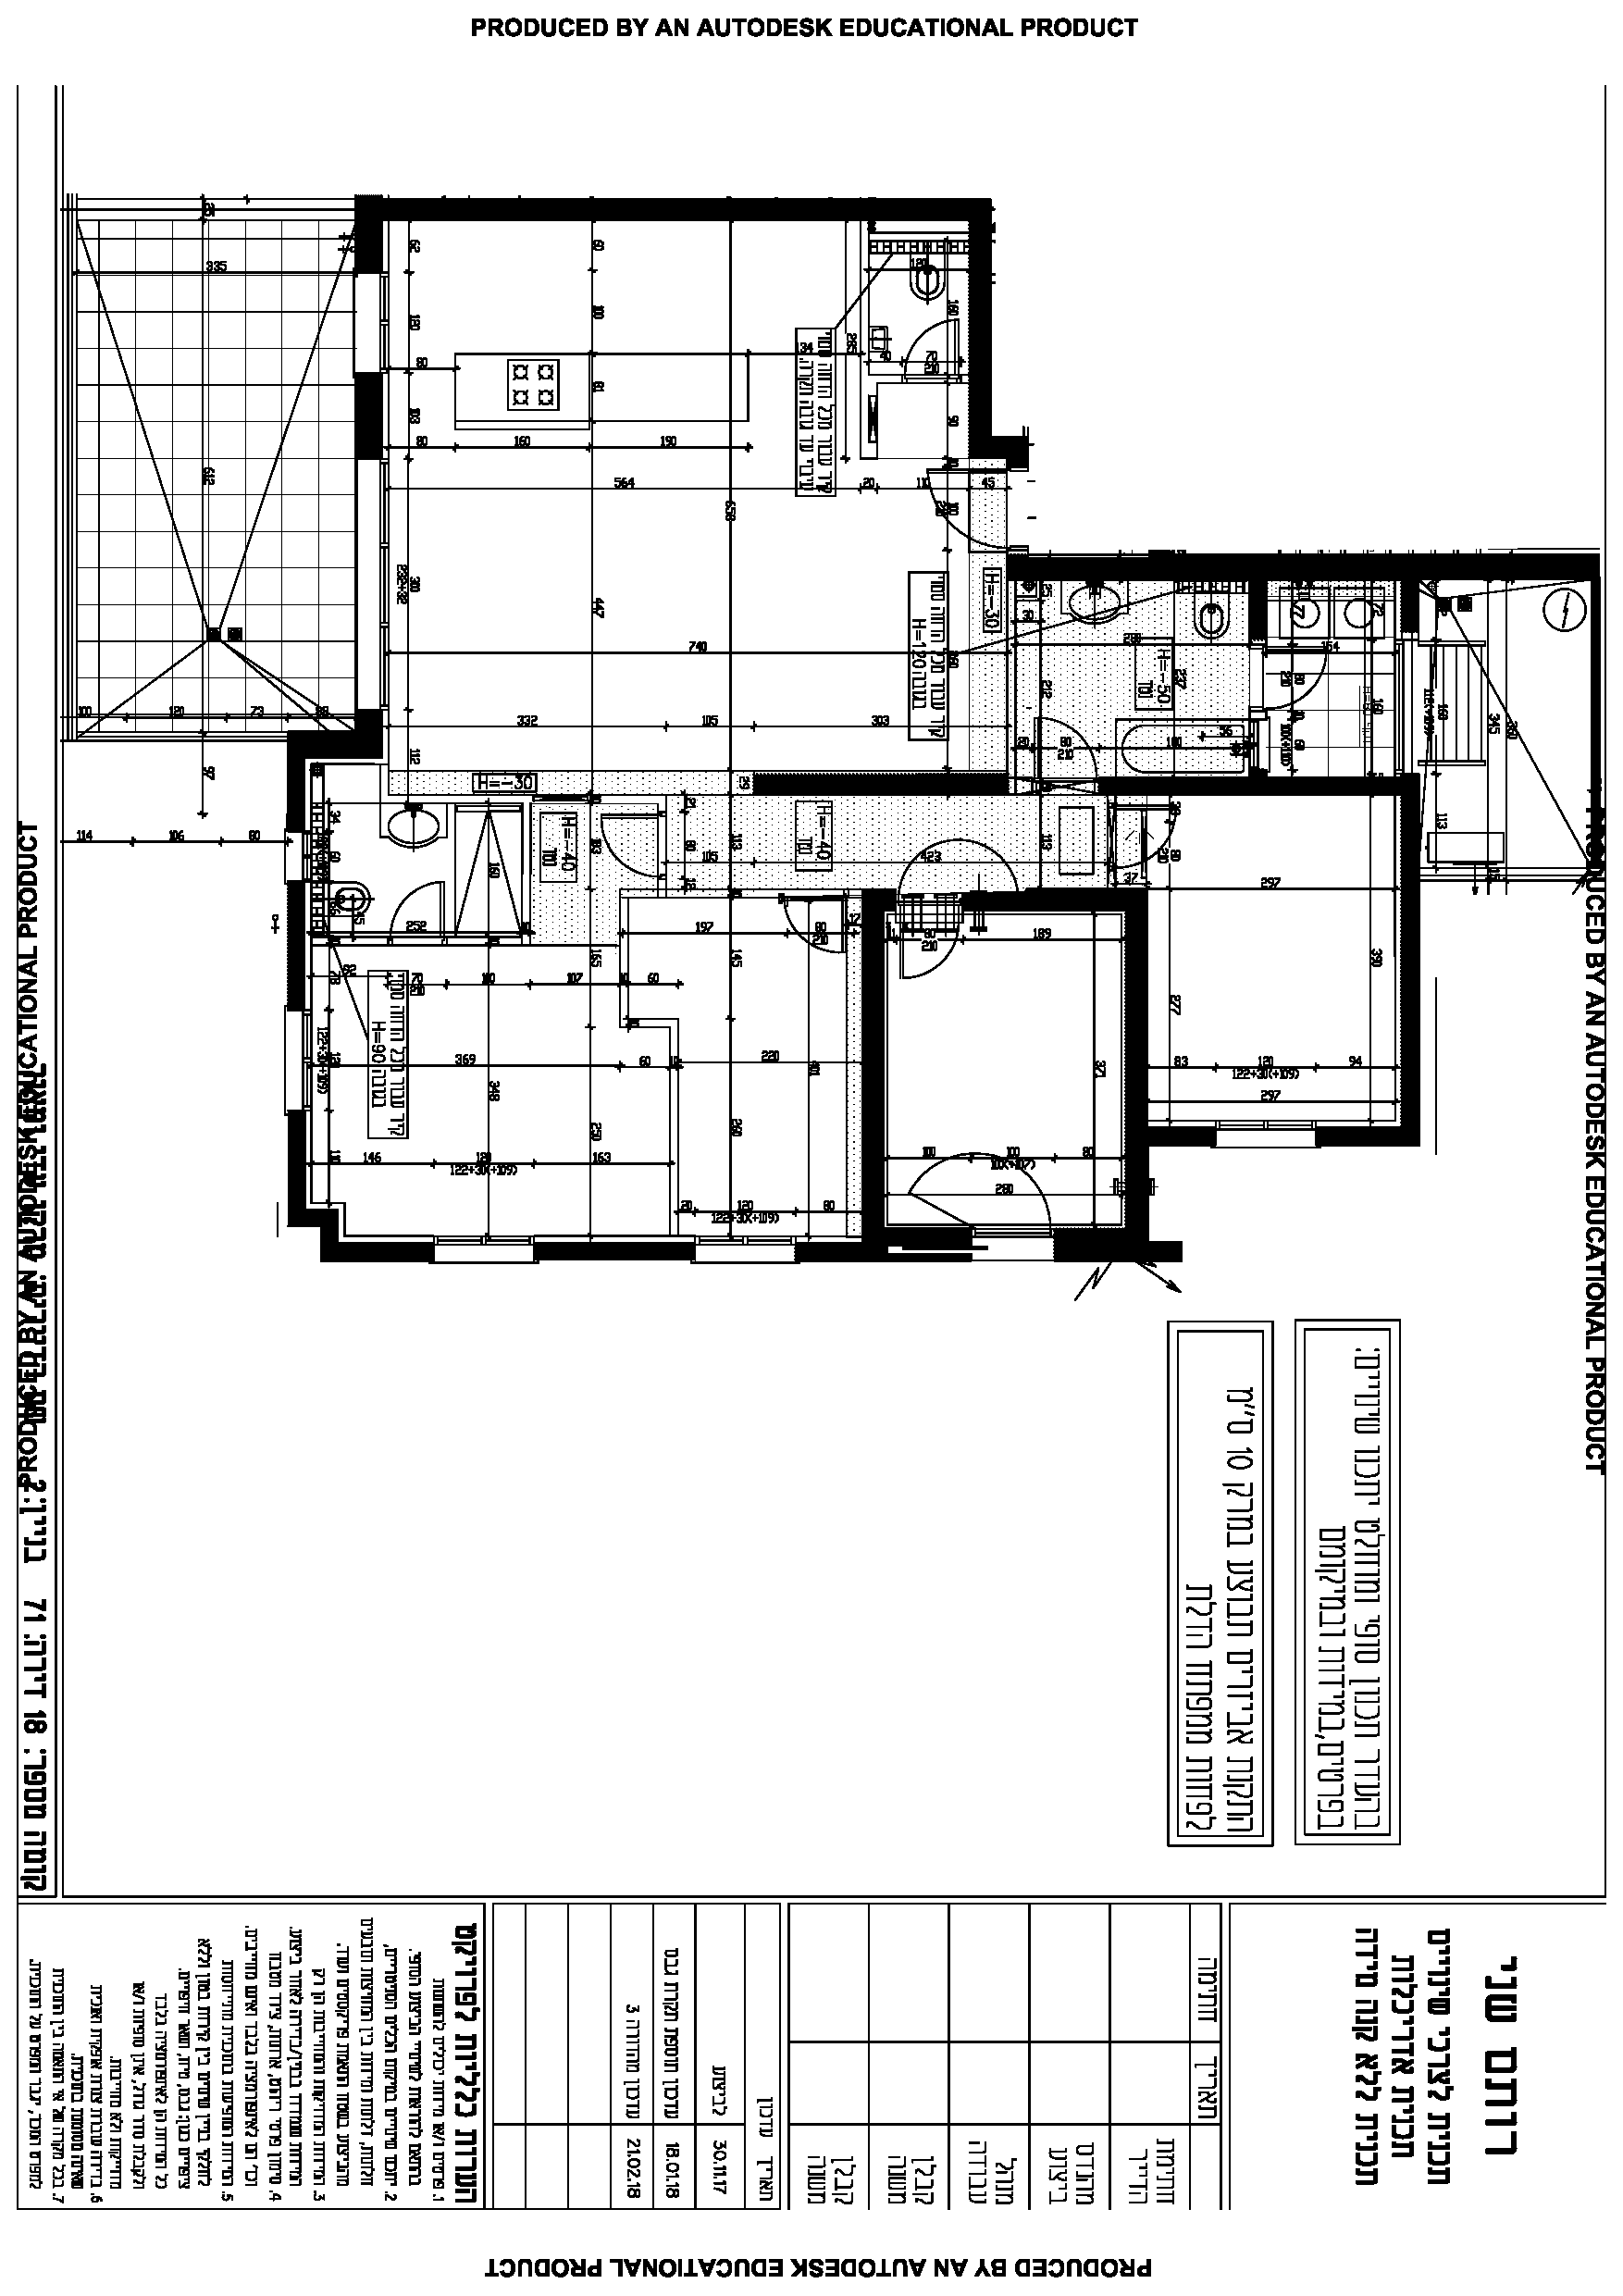door: (597, 808, 653, 889)
wall: (1010, 553, 1593, 580), (859, 889, 887, 1242), (1124, 889, 1145, 1258), (1403, 780, 1423, 1130), (966, 206, 989, 455), (964, 204, 987, 453), (963, 202, 985, 451), (968, 209, 991, 457), (752, 773, 1006, 794)
